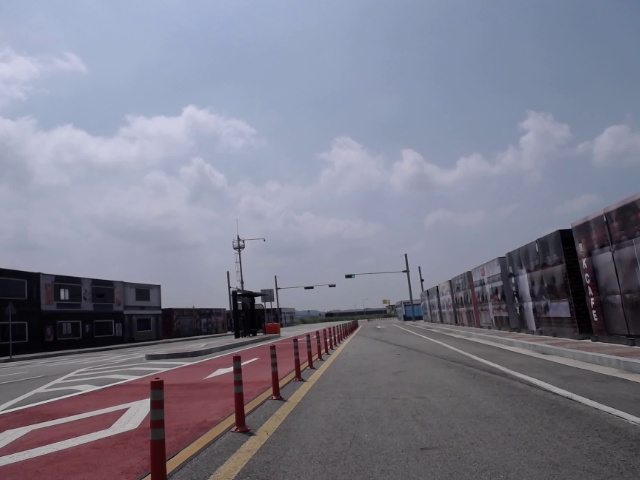green_3: (344, 274, 356, 279)
